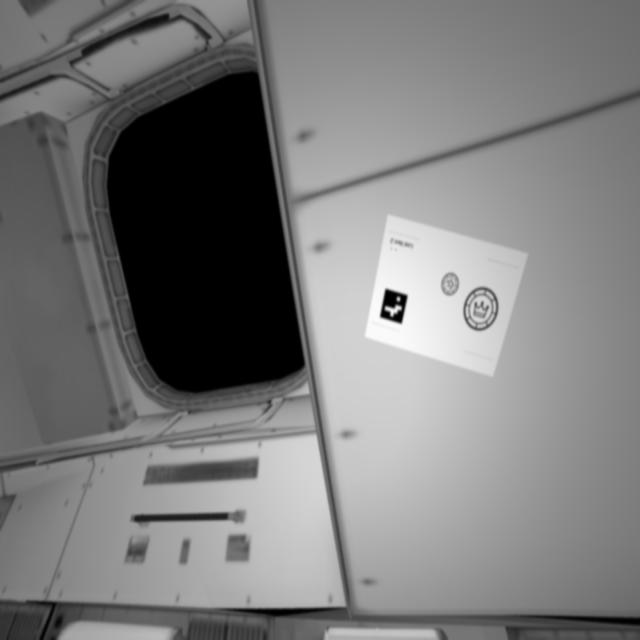coin: (463, 287, 504, 332), (440, 267, 463, 305)
